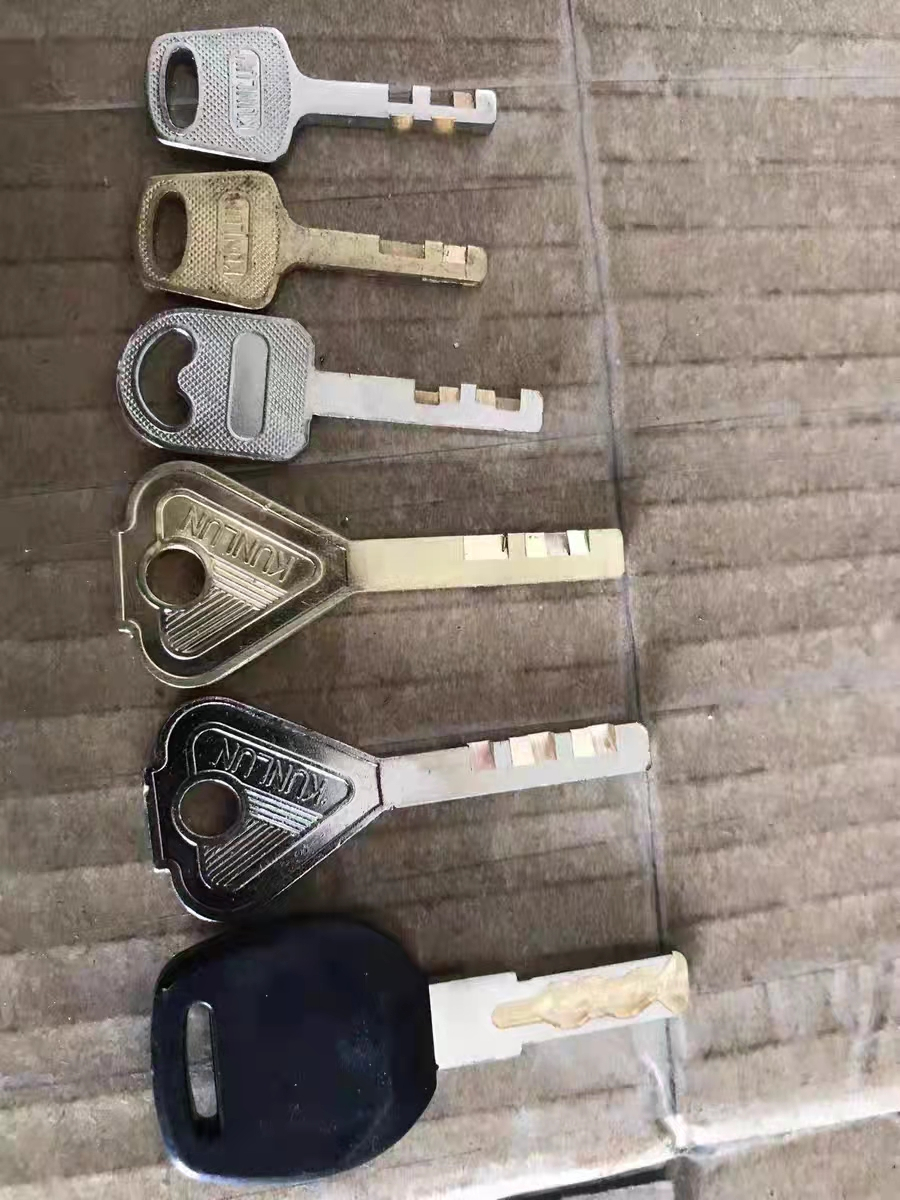key: (147, 924, 708, 1175), (99, 476, 677, 683), (135, 708, 672, 924), (113, 315, 565, 461), (117, 18, 508, 169), (131, 164, 499, 324)
